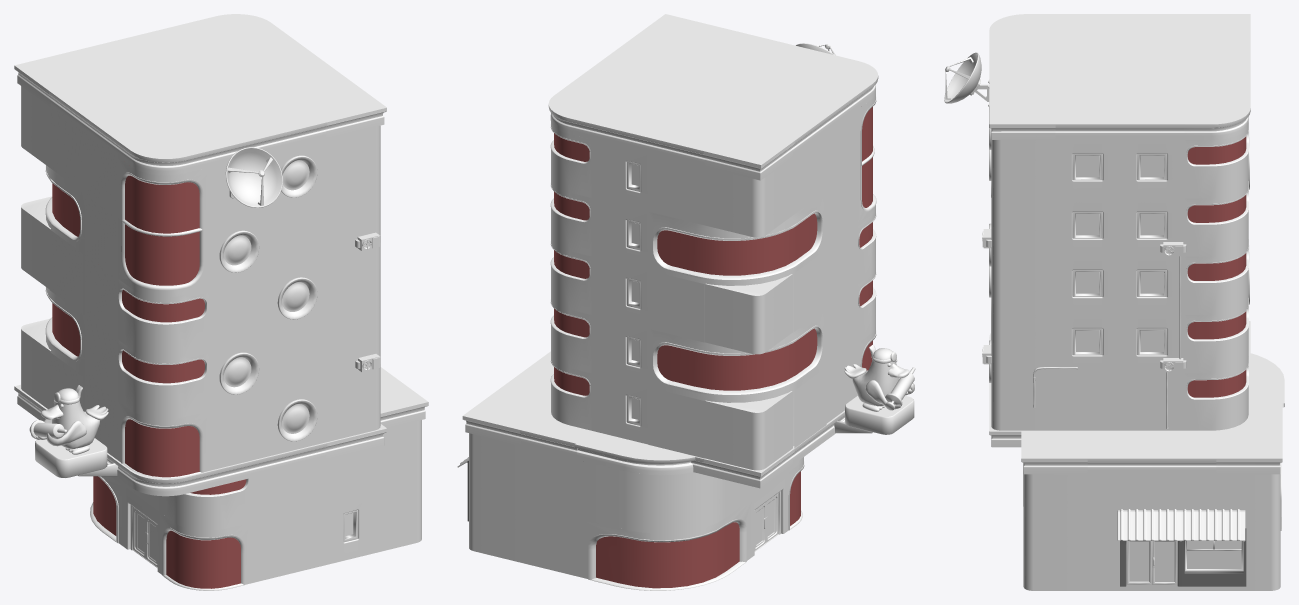
Rendered from P_Building.fbx.
The picture shows the model from 3 angles, left to right: view 1: azimuth 30°, elevation 25°; view 2: azimuth 150°, elevation 25°; view 3: azimuth 270°, elevation 25°; orthographic projection. The views are drawn at different scales.
Visible parts, largest first — view 1: SM_BlockB3_1_3, SM_BlockB3_1, SM_BlockB1_4, SM_BlockB1_5, SM_BlockB3_1_1, SM_BlockB3_1_2, SM_DRQuack, SM_Window_3x3_02_1, SM_Window_3x3_02_3, SM_Window_3x3_04_5, SM_Window_3x3_02_2, SM_Wall_3x3_01_2 (+54 smaller); view 2: SM_BlockB3_1_4, SM_BlockB1_7, SM_BlockB1_6, SM_Corner_3x3_02, SM_Corner_3x3_03_5, SM_Corner_3x3_03_7, SM_Corner_3x3_03_6, SM_DRQuack, SM_Wall_3x3_01_15, SM_Wall_3x3_01_14, SM_Window_3x3_04_3, SM_Window_3x3_04_1 (+48 smaller); view 3: SM_BlockB1_1, SM_Corner_3x3_03_2, SM_Window_3x3_03_2, SM_Corner_3x3_03_9, SM_Window_3x3_03_4, SM_Window_3x3_03_6, SM_Window_3x3_03_7, SM_BlockB1_3, SM_Corner_3x3_03_3, SM_BlockB1_2, SM_Corner_3x3_03_11, SM_BlockB1 (+43 smaller).
Boxes of the visible parts, x1,y1,x2,y2 form: SM_BlockB3_1_3: [159, 512, 251, 590]; SM_BlockB3_1: [118, 218, 209, 297]; SM_BlockB1_4: [118, 340, 209, 418]; SM_BlockB1_5: [118, 279, 209, 357]; SM_BlockB3_1_1: [118, 157, 209, 235]; SM_BlockB3_1_2: [118, 401, 209, 477]; SM_DRQuack: [29, 385, 117, 477]; SM_Window_3x3_02_1: [268, 261, 326, 335]; SM_Window_3x3_02_3: [209, 214, 267, 288]; SM_Window_3x3_04_5: [309, 494, 367, 568]; SM_Window_3x3_02_2: [209, 336, 267, 410]; SM_Wall_3x3_01_2: [268, 321, 326, 396]; SM_BlockB3_1_4: [577, 498, 753, 590]; SM_BlockB1_7: [649, 192, 825, 341]; SM_BlockB1_6: [649, 309, 825, 446]; SM_Corner_3x3_02: [577, 459, 753, 533]; SM_Corner_3x3_03_5: [704, 274, 792, 354]; SM_Corner_3x3_03_7: [704, 391, 792, 470]; SM_Corner_3x3_03_6: [704, 157, 792, 237]; SM_DRQuack: [834, 345, 915, 434]; SM_Wall_3x3_01_15: [648, 270, 704, 342]; SM_Wall_3x3_01_14: [648, 387, 704, 458]; SM_Window_3x3_04_3: [593, 198, 648, 270]; SM_Window_3x3_04_1: [593, 256, 648, 328]; SM_BlockB1_1: [1184, 239, 1248, 314]; SM_Corner_3x3_03_2: [991, 253, 1055, 314]; SM_Window_3x3_03_2: [1055, 198, 1119, 256]; SM_Corner_3x3_03_9: [1023, 529, 1087, 590]; SM_Window_3x3_03_4: [1055, 256, 1119, 314]; SM_Window_3x3_03_6: [1055, 140, 1119, 198]; SM_Window_3x3_03_7: [1120, 140, 1184, 198]; SM_BlockB1_3: [1184, 123, 1248, 198]; SM_Corner_3x3_03_3: [991, 195, 1055, 256]; SM_BlockB1_2: [1184, 181, 1248, 256]; SM_Corner_3x3_03_11: [1023, 474, 1087, 532]; SM_BlockB1: [1184, 298, 1248, 373].
Bounding box in the file's own units: 1985 × 2265 × 1588.
